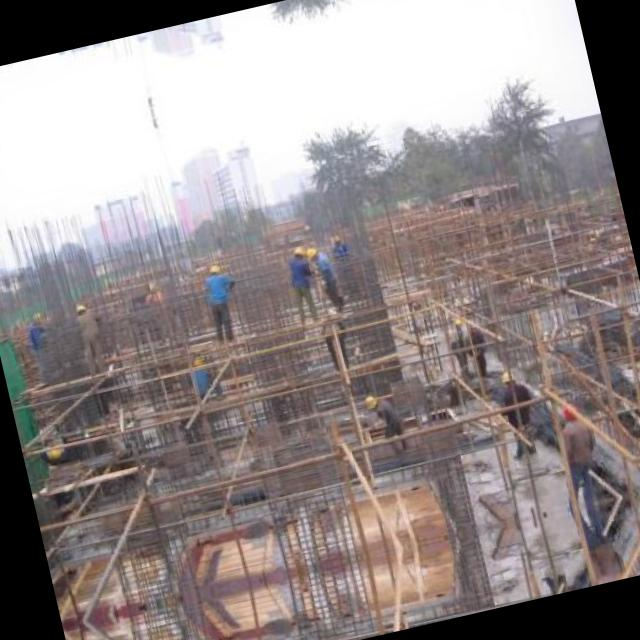helmet: (552, 397, 582, 426), (301, 240, 326, 264), (358, 390, 383, 413), (284, 241, 307, 265), (495, 366, 518, 387), (204, 260, 226, 280), (68, 302, 88, 322)
